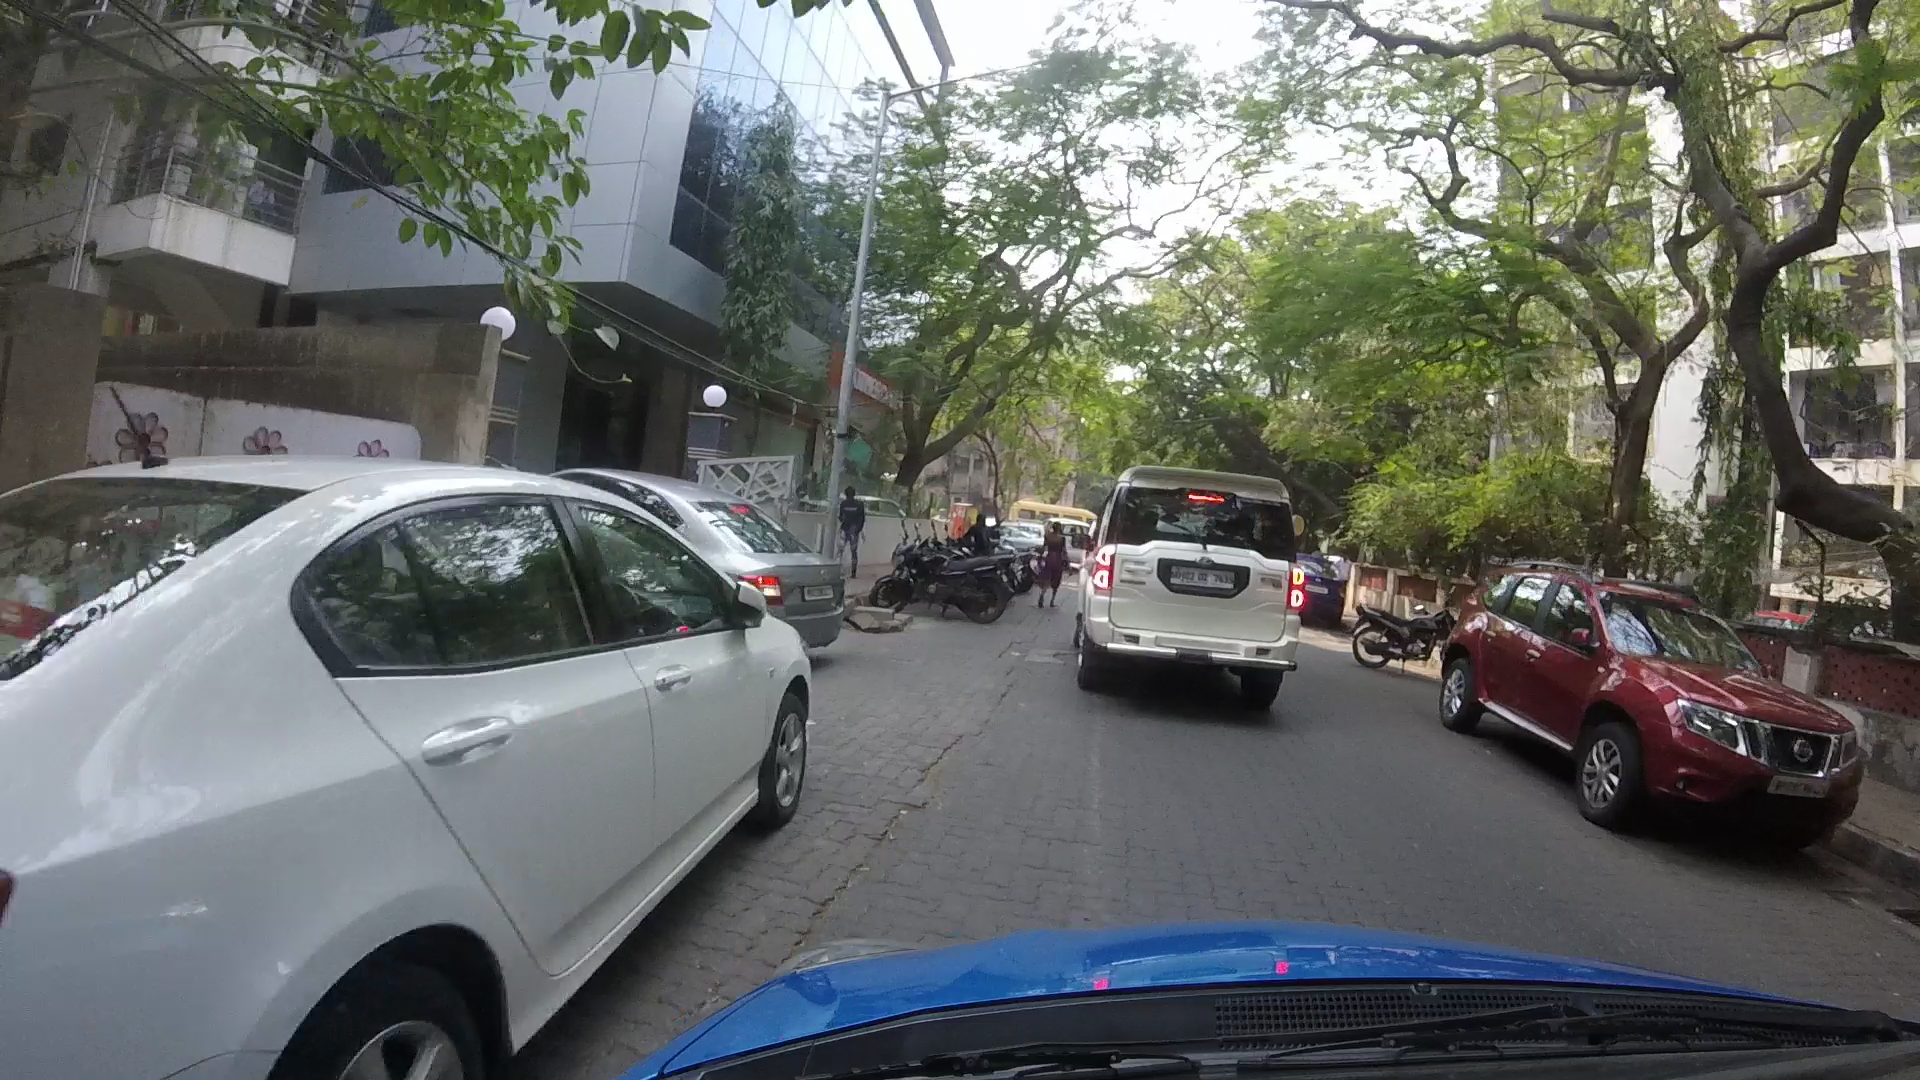bike/scooter: (1352, 582, 1501, 678)
car: (11, 429, 827, 1080), (1433, 554, 1857, 857), (1087, 425, 1317, 716), (621, 454, 877, 632)
